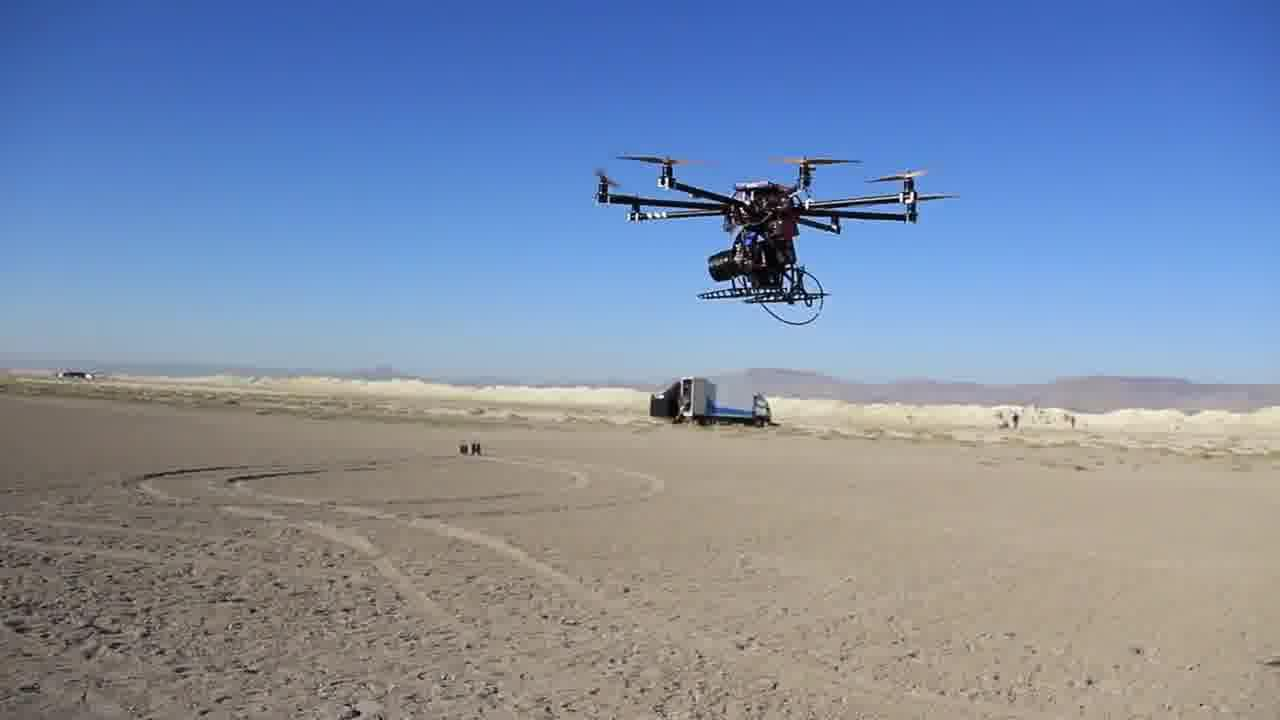drone: (575, 141, 857, 316)
